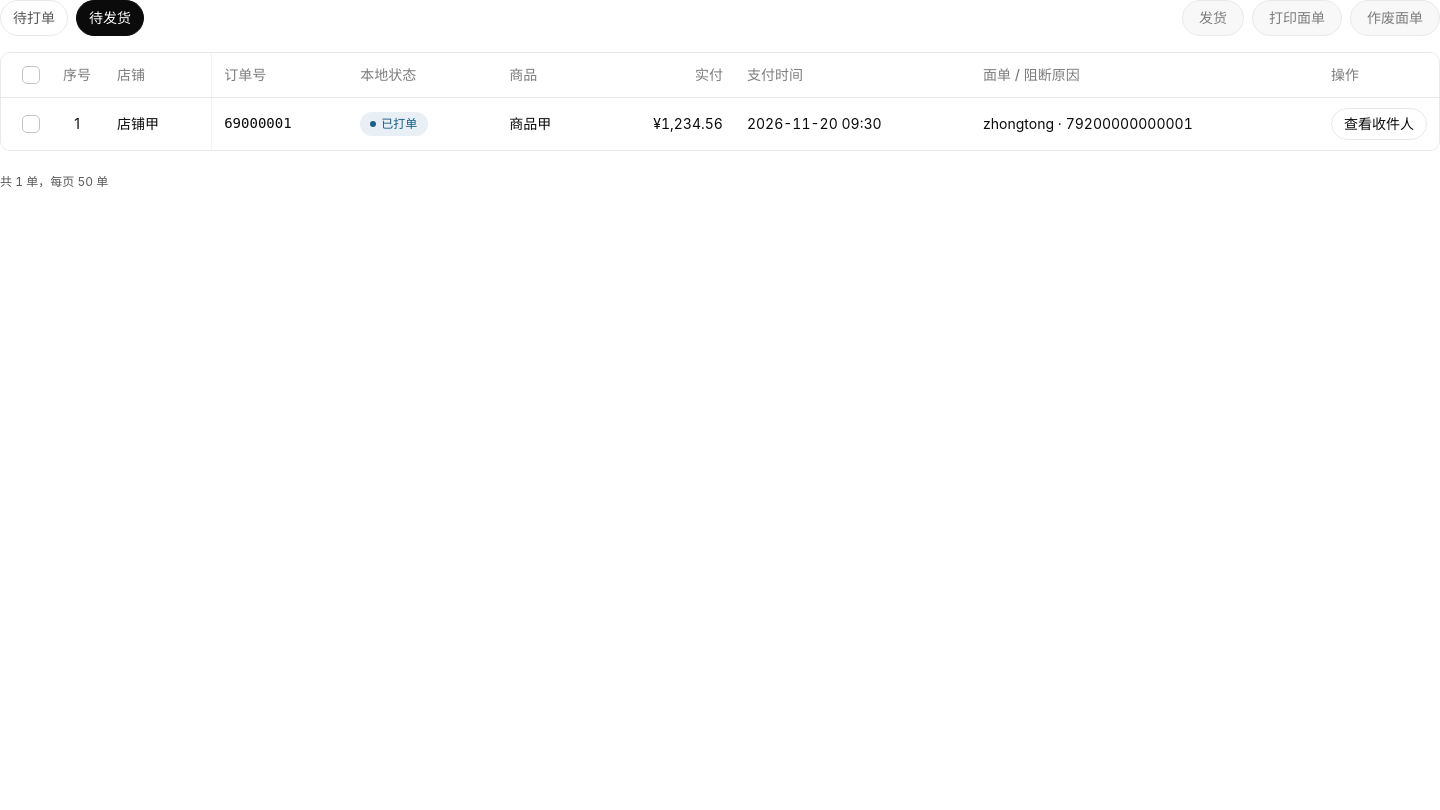
Test: 待发货阶段：发货（原发货台） › 二次确认项在确认前展示，按钮文案标明已核对
Click the checkbox named "选择订单 69000001": (31, 124) x1=13 y1=106 x2=49 y2=142
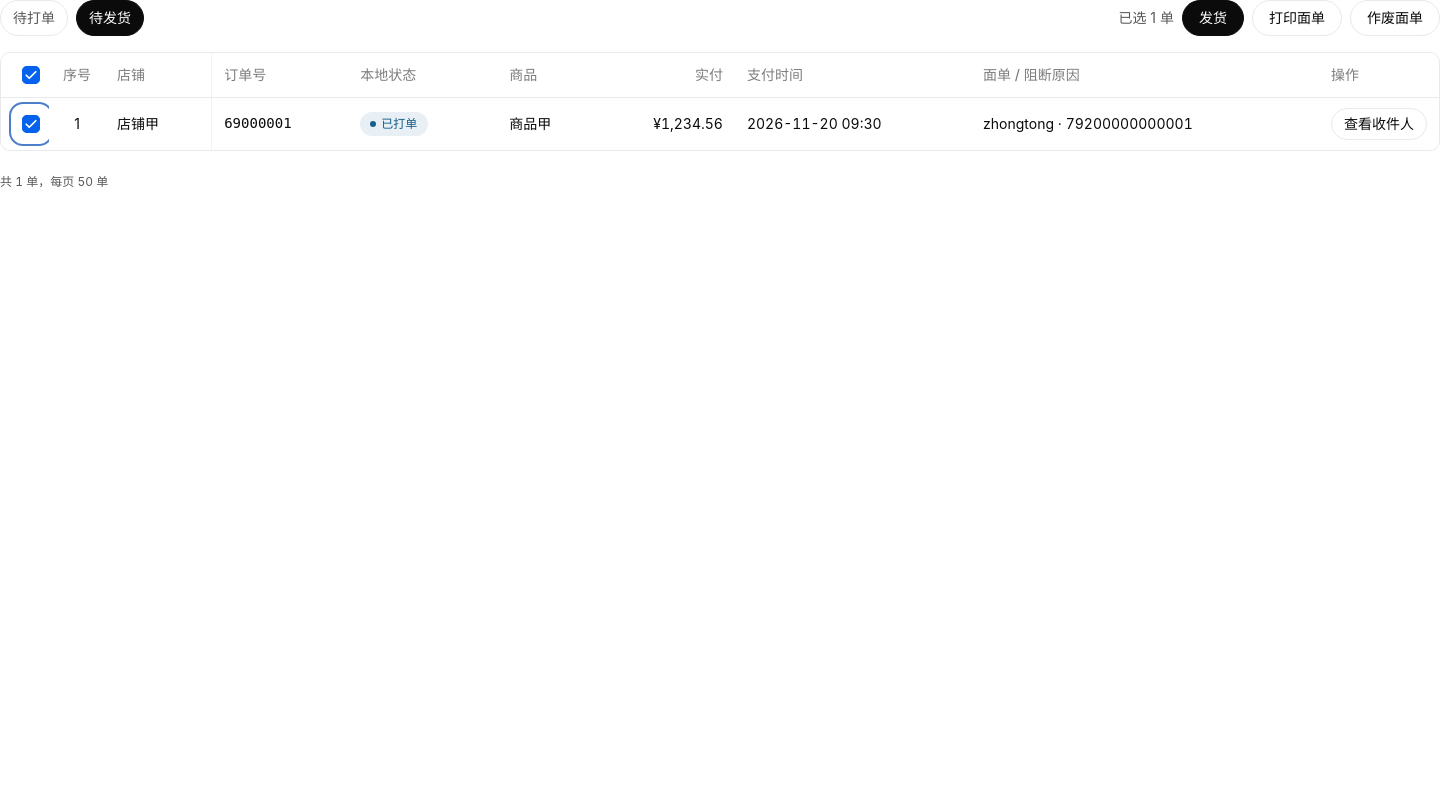
Click the button "发货": (1213, 18) x1=1182 y1=0 x2=1244 y2=36
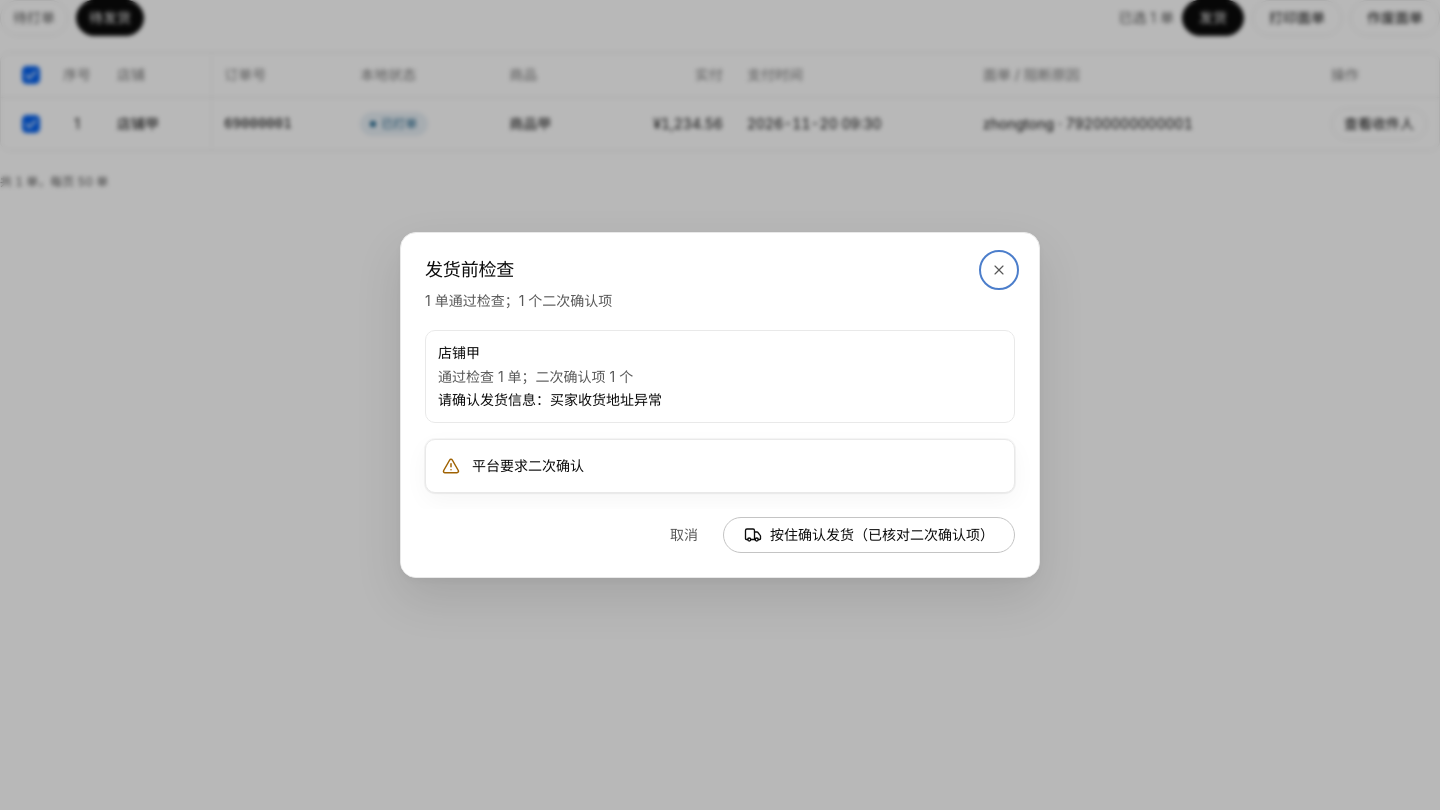
Result: the list item "请确认发货信息：买家收货地址异常" is shown at x1=438 y1=391 x2=662 y2=408
Result: the button "按住确认发货（已核对二次确认项） 按住确认发货（已核对二次确认项）" is shown at x1=723 y1=517 x2=1015 y2=553
